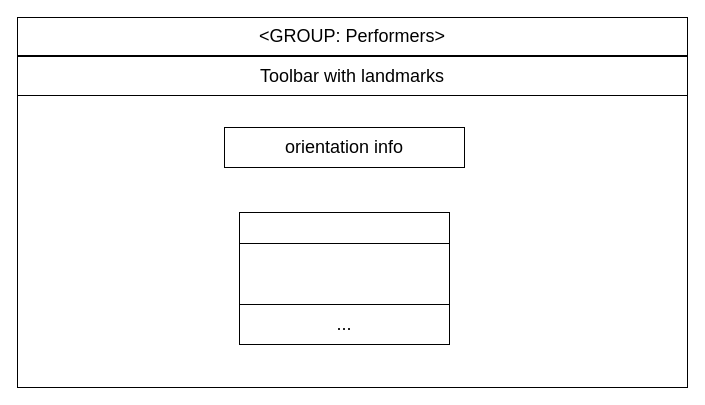
Some shapes in this 705 by 405 pixel diagram are drawn without their labels. Each missing label, with the centre of its shape:
"Name 1 <group link>" goes at pixel 344 228.
"preview description 1" goes at pixel 344 273.
